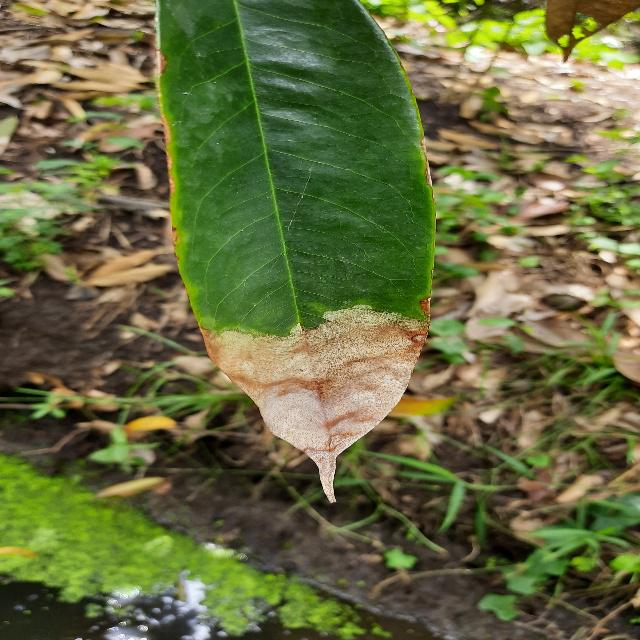Leaf Blight: (149, 0, 445, 508)
